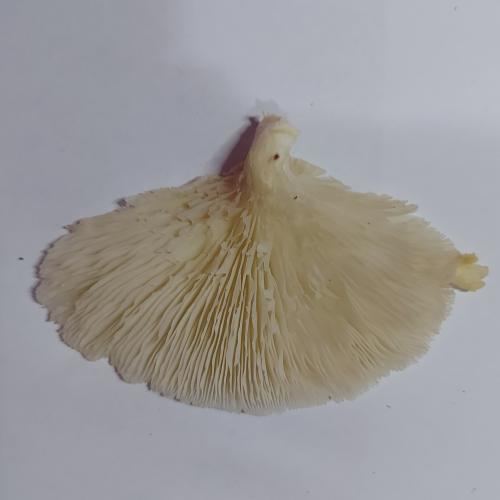Oyster Mushroom: (31, 111, 489, 416)
